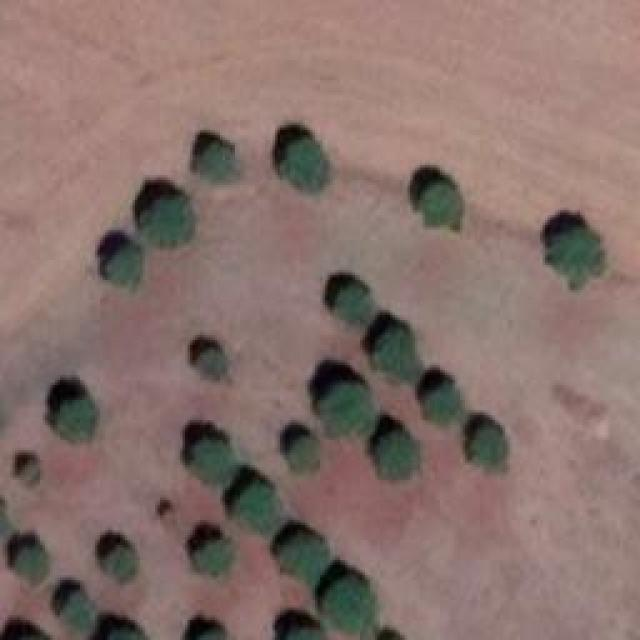Tree: (550, 225, 608, 290), (323, 383, 373, 438), (330, 578, 380, 633), (377, 323, 425, 378), (278, 530, 328, 580), (285, 135, 328, 193), (415, 182, 465, 230), (228, 488, 281, 533), (148, 195, 191, 248), (420, 378, 463, 428), (378, 428, 418, 478), (470, 428, 513, 473), (190, 438, 233, 481), (200, 140, 238, 188), (335, 285, 375, 328), (58, 395, 93, 443), (108, 242, 141, 290), (10, 540, 48, 580), (195, 540, 233, 575), (60, 593, 90, 633), (108, 543, 138, 583), (290, 438, 323, 471), (280, 618, 328, 638), (95, 618, 143, 638), (200, 343, 225, 378), (187, 620, 225, 638), (20, 458, 40, 483)
